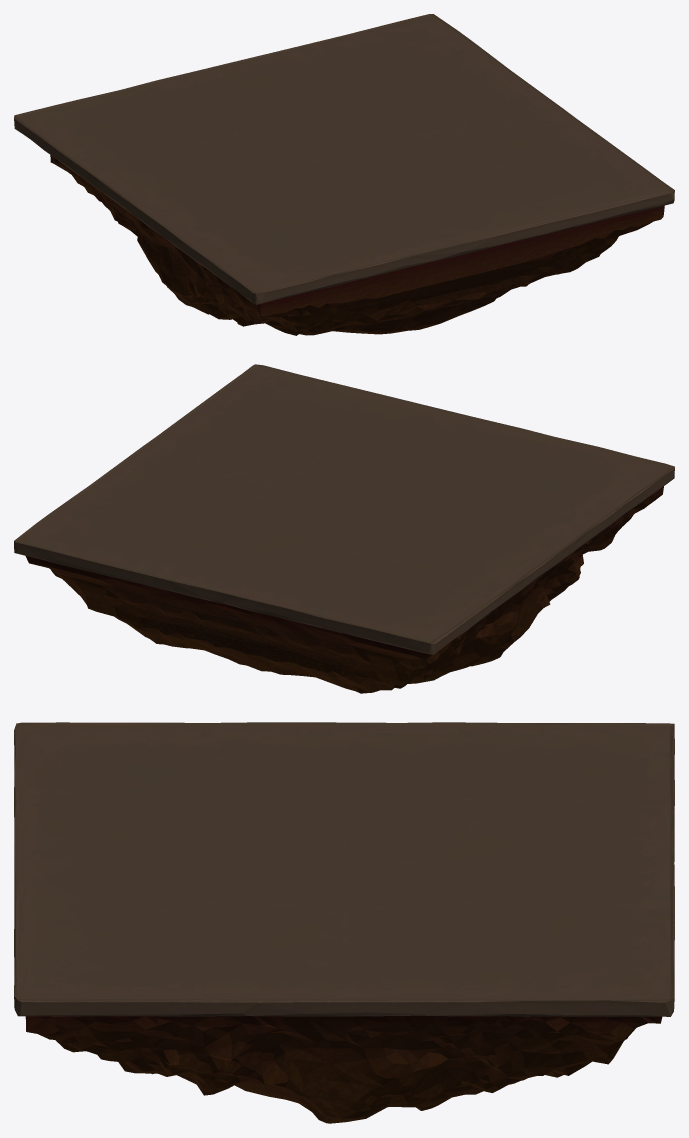
File: floating+rock+platform+3d+model.fbx
3 renders of one model, top to bottom at view 1: azimuth 30°, elevation 25°; view 2: azimuth 150°, elevation 25°; view 3: azimuth 270°, elevation 25°, orthographic. The views are drawn at different scales.
Parts seen in each view (by area): view 1: tripo_node_7089fd3e; view 2: tripo_node_7089fd3e; view 3: tripo_node_7089fd3e.
Boxes of the visible parts, left/top/right/bottom form: tripo_node_7089fd3e: left=14, top=14, right=674, bottom=335; tripo_node_7089fd3e: left=14, top=364, right=674, bottom=693; tripo_node_7089fd3e: left=14, top=722, right=674, bottom=1123.
Size of the model in its own units: 0.9989 by 0.3165 by 0.9996.
Materials: 1 (1 with a texture image).
